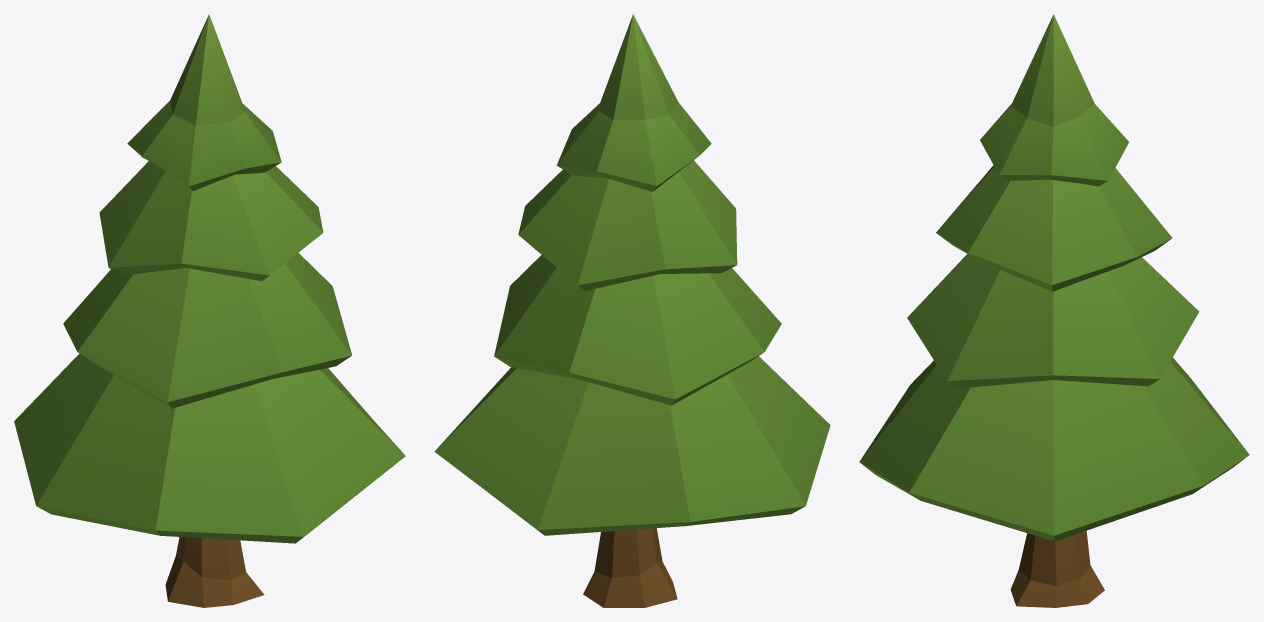
File: Tree 1_Shiqi.glb
3 renders of one model, left to right at view 1: azimuth 30°, elevation 25°; view 2: azimuth 150°, elevation 25°; view 3: azimuth 270°, elevation 25°, orthographic.
Parts seen in each view (by area): view 1: Tree 1; view 2: Tree 1; view 3: Tree 1.
Part boxes in pixels (<box>): Tree 1: <box>14,14,405,607</box>; Tree 1: <box>434,14,830,607</box>; Tree 1: <box>859,14,1249,607</box>.
Bounding box in the file's own units: 13.54 × 22.21 × 13.68.
1 material, 1 textured.
